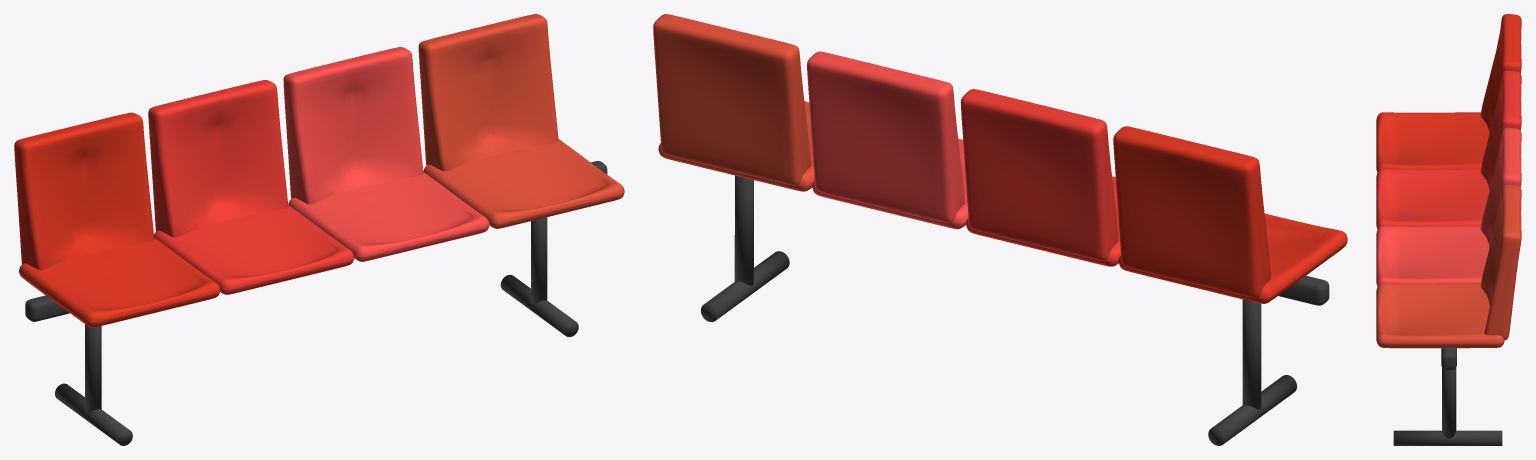
Rendered from Row_of_chairs.fbx.
The picture shows the model from 3 angles, left to right: view 1: azimuth 30°, elevation 25°; view 2: azimuth 150°, elevation 25°; view 3: azimuth 270°, elevation 25°; orthographic projection. The views are drawn at different scales.
Parts seen in each view (by area): view 1: Backrest_1, Backrest_1.001, Backrest_1.003, Backrest_1.002, Seat_1, Seat_1.002, Seat_1.003, Seat_1.001, Right_Front_Foot, Left_Front_Foot, Left_Vertical_Leg, Right_Vertical_Leg (+1 smaller); view 2: Backrest_1.002, Backrest_1.003, Backrest_1, Backrest_1.001, Seat_1, Left_Vertical_Leg, Right_Vertical_Leg, Left_Front_Foot, Right_Front_Foot, Seat_1.002, Seat_1.003, Seat_1.001 (+1 smaller); view 3: Seat_1.003, Seat_1.002, Seat_1.001, Seat_1, Backrest_1.003, Backrest_1.001, Backrest_1.002, Backrest_1, Right_Front_Foot, Right_Vertical_Leg, Main_Metal_Beam.
Boxes of the visible parts, x1,y1,x2,y2 form: Backrest_1: (14,112,154,270); Backrest_1.001: (148,80,288,237); Backrest_1.003: (418,14,558,171); Backrest_1.002: (283,47,423,204); Seat_1: (19,238,220,327); Seat_1.002: (288,172,489,261); Seat_1.003: (423,139,624,228); Seat_1.001: (154,205,354,294); Right_Front_Foot: (500,274,578,336); Left_Front_Foot: (55,383,132,445); Left_Vertical_Leg: (85,324,101,413); Right_Vertical_Leg: (531,217,547,304); Backrest_1.002: (807,51,964,223); Backrest_1.003: (653,14,810,185); Backrest_1: (1113,126,1270,298); Backrest_1.001: (960,89,1118,260); Seat_1: (1118,213,1347,303); Left_Vertical_Leg: (1242,299,1261,409); Right_Vertical_Leg: (734,175,753,285); Left_Front_Foot: (1208,375,1296,445); Right_Front_Foot: (700,251,789,321); Seat_1.002: (812,138,968,229); Seat_1.003: (658,101,814,191); Seat_1.001: (966,176,1120,266); Seat_1.003: (1376,283,1504,348); Seat_1.002: (1376,226,1489,286); Seat_1.001: (1376,168,1489,229); Seat_1: (1376,112,1489,172); Backrest_1.003: (1480,185,1521,340); Backrest_1.001: (1480,70,1521,190); Backrest_1.002: (1480,127,1521,247); Backrest_1: (1480,14,1521,133); Right_Front_Foot: (1393,430,1502,445); Right_Vertical_Leg: (1442,368,1456,438); Main_Metal_Beam: (1441,346,1456,370).
Size of the model in its own units: 202 by 88.2 by 50.85.
